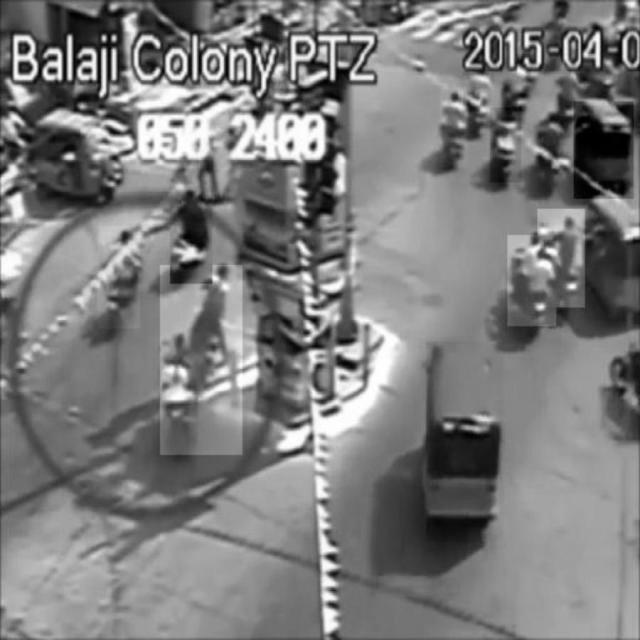accident: (161, 265, 243, 455)
vehicle: (428, 342, 505, 542), (33, 102, 115, 210), (574, 102, 634, 200), (538, 209, 585, 307), (508, 236, 556, 327), (98, 226, 140, 328), (171, 187, 213, 285), (490, 108, 520, 182), (440, 88, 467, 168)
